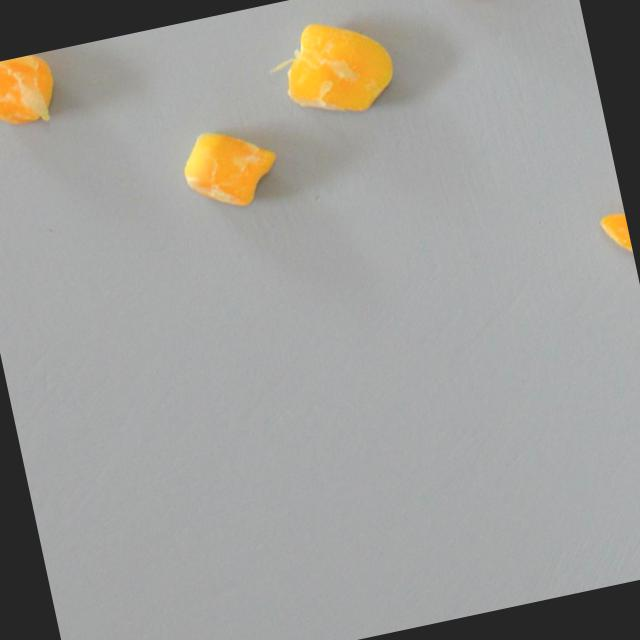pelicula: (260, 0, 408, 131), (172, 116, 290, 221), (593, 195, 640, 320), (0, 50, 67, 134)
